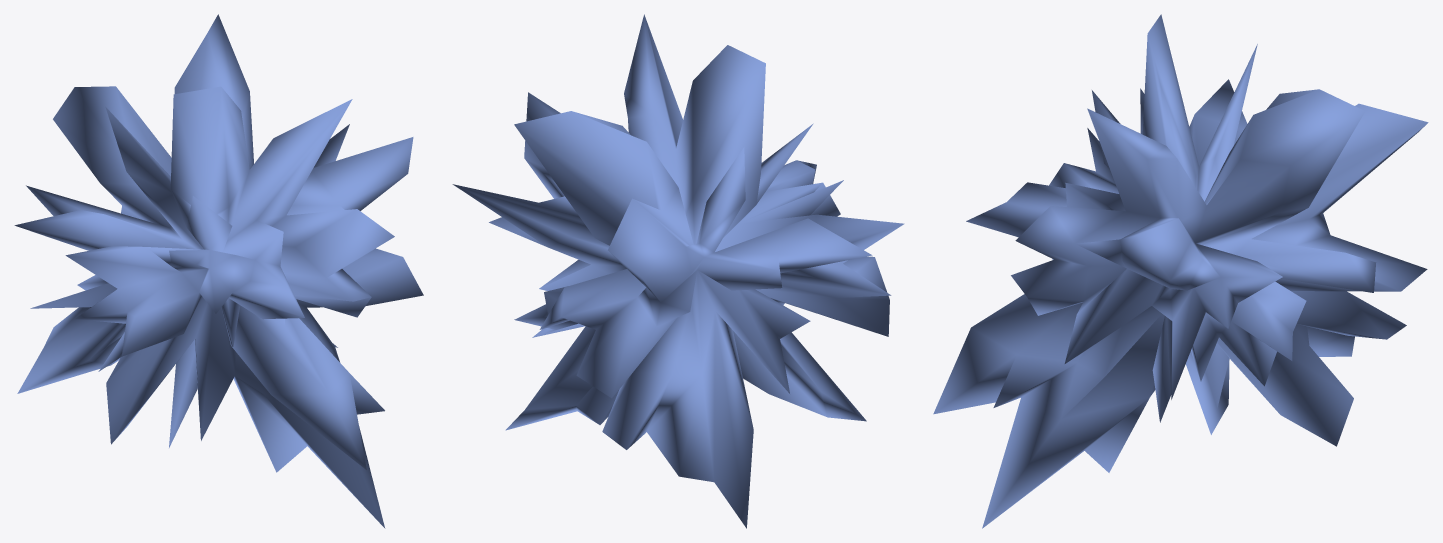
The model's file is snowFlowerLowPoly.glb.
3 views of the same model, side by side, from view 1: azimuth 30°, elevation 25°; view 2: azimuth 150°, elevation 25°; view 3: azimuth 270°, elevation 25° (orthographic). The views are drawn at different scales.
Visible parts, largest first — view 1: Cube.003; view 2: Cube.003; view 3: Cube.003.
Part boxes in pixels (box(x1,y1,x2,y2)): Cube.003: box(14, 14, 423, 528); Cube.003: box(452, 14, 904, 528); Cube.003: box(933, 14, 1428, 528).
Size of the model in its own units: 0.3534 by 0.3825 by 0.3834.
